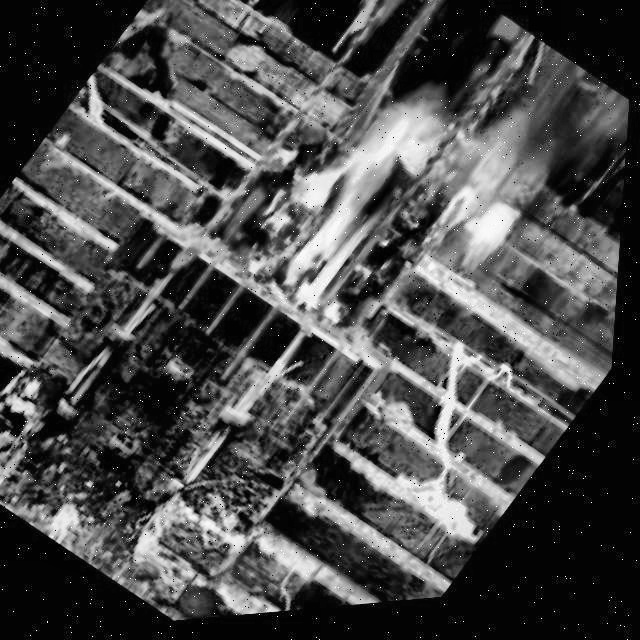Fire: (234, 70, 466, 334)
